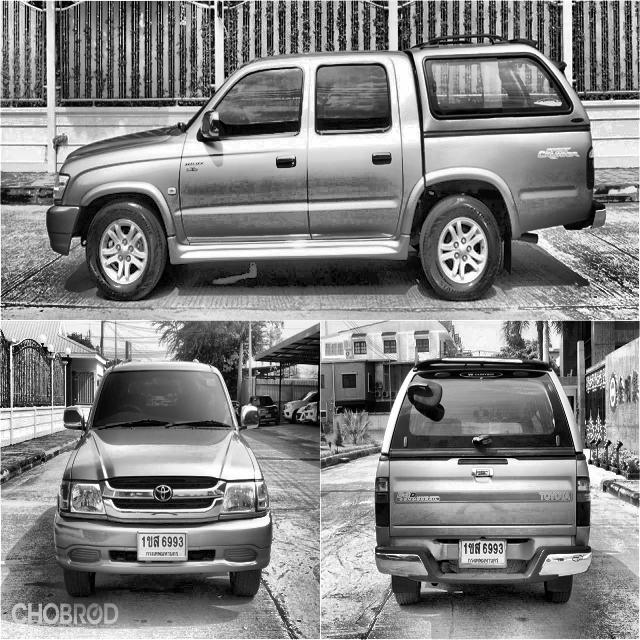license-plate: (454, 532, 506, 576), (130, 526, 190, 564)
